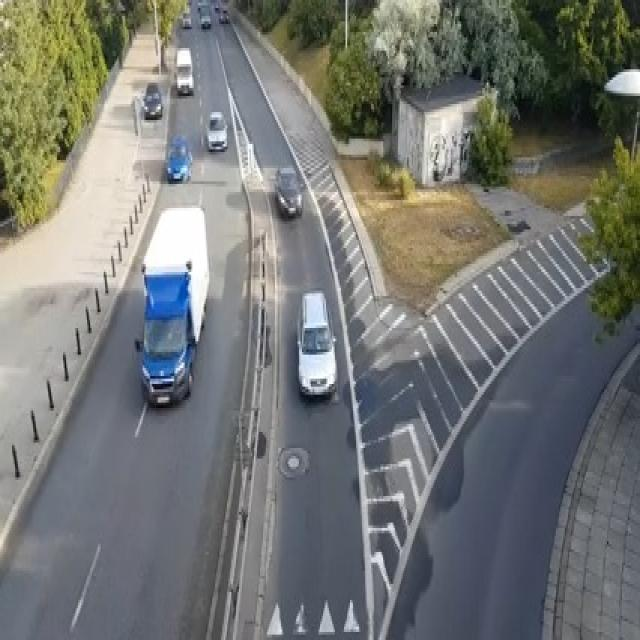bus: (134, 203, 209, 405)
car: (296, 288, 336, 397), (273, 165, 302, 219), (167, 134, 192, 182), (174, 46, 194, 94), (206, 110, 227, 150), (141, 80, 162, 117), (198, 0, 210, 27), (182, 10, 191, 27), (220, 6, 228, 22)
